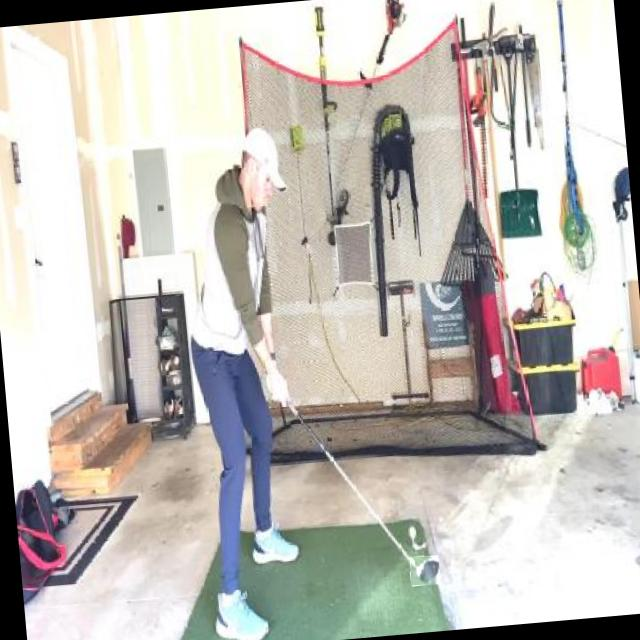club head: (408, 554, 441, 586)
